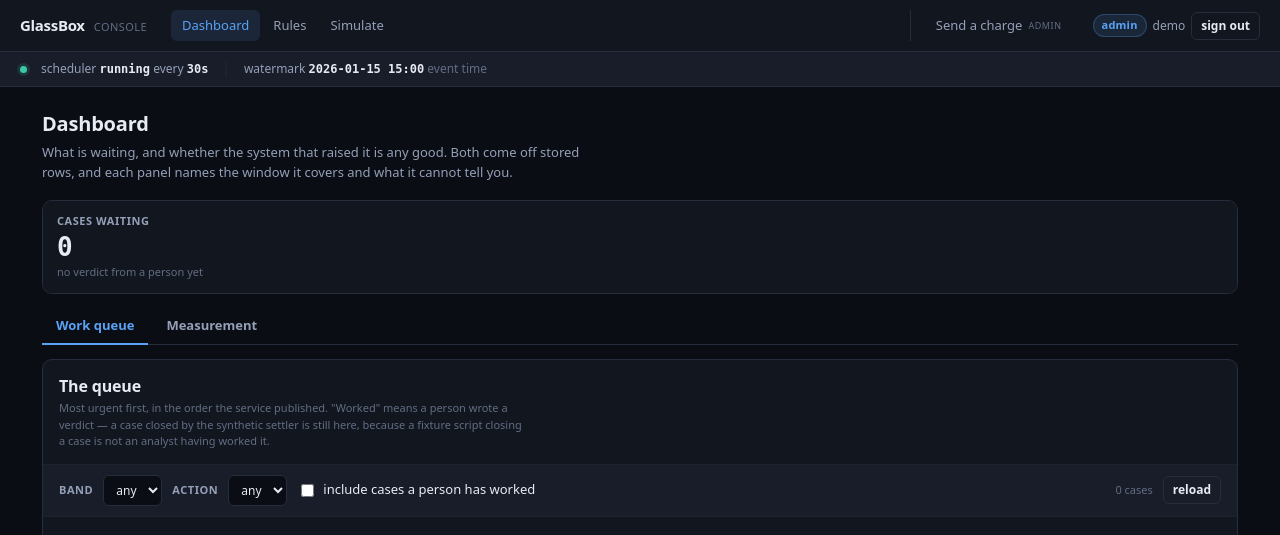
Test case: clicking a tab actually moves › walks the whole navigation without a reload
Check: the heading "Dashboard" is shown, box [42, 110, 149, 137]
Click the link "Measurement": (212, 325) [166, 316, 257, 334]
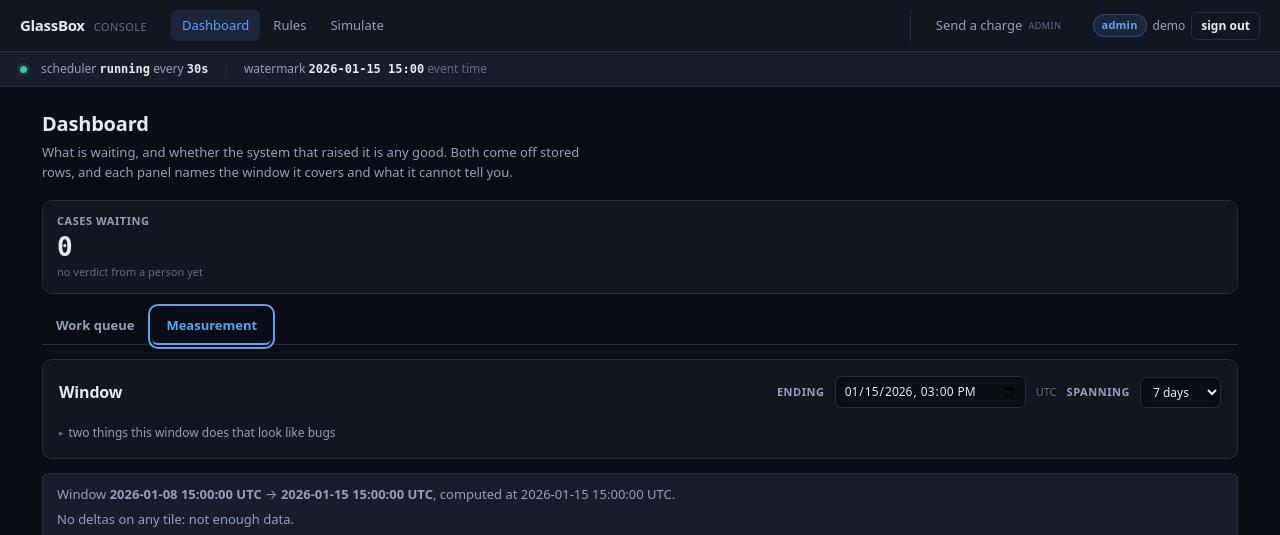
Check: the heading "Window" is shown, box [59, 381, 122, 403]
Click the link "Rules": (290, 25) [273, 16, 306, 34]
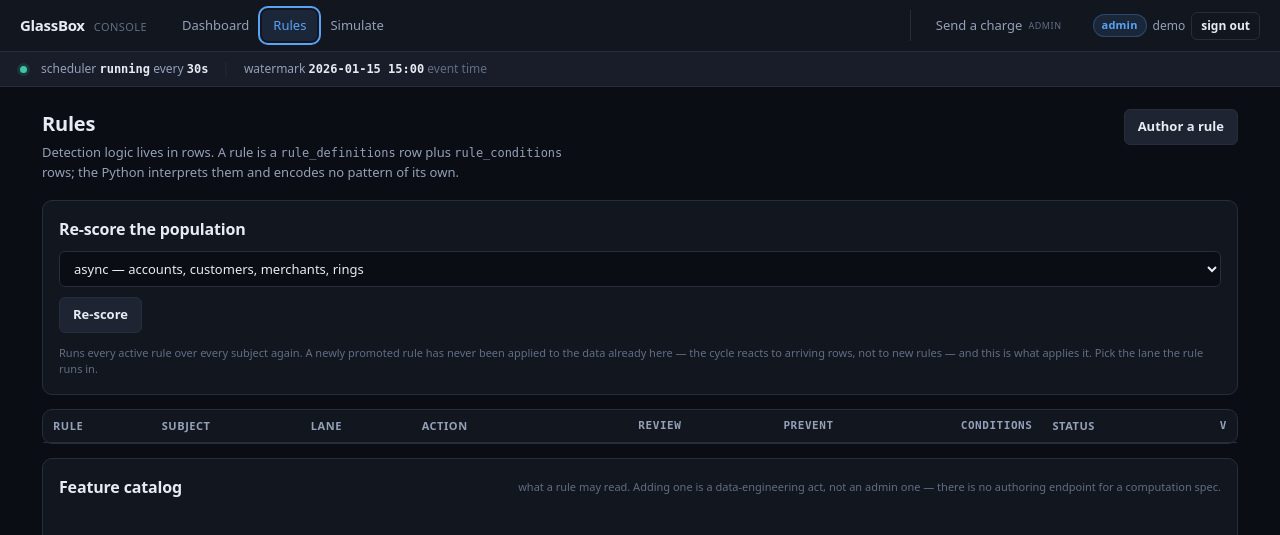
Check: the heading "Rules" is shown, box [42, 110, 95, 137]
Click the link "Simulate": (357, 25) [330, 16, 384, 34]
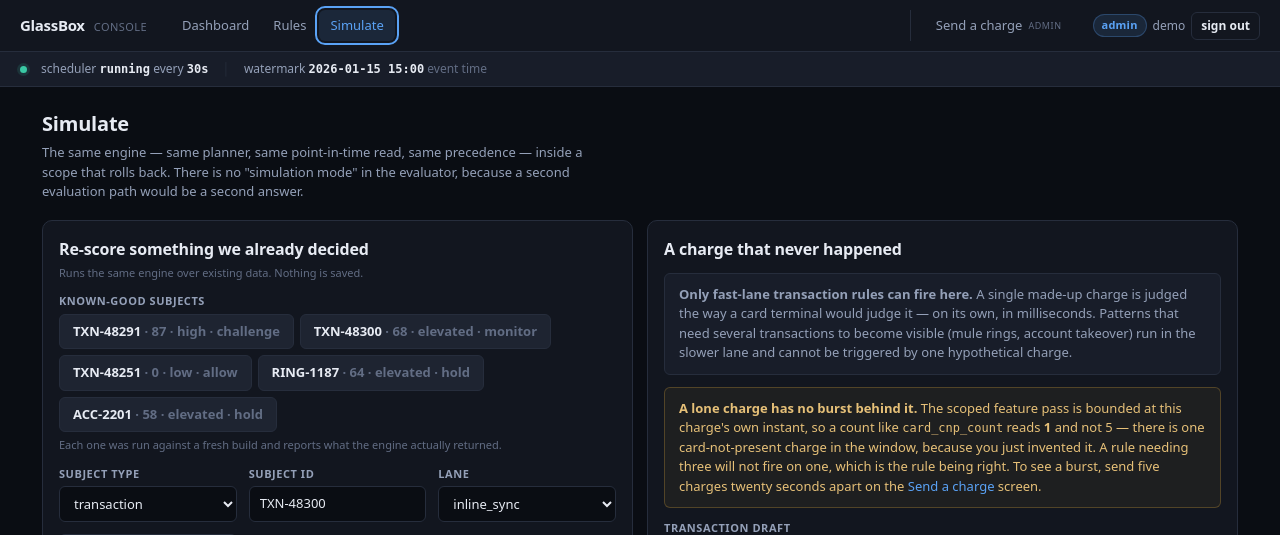
Check: the heading "Simulate" is shown, box [42, 110, 129, 137]
Click the link "Send a charge" next to "admin": (979, 25) [936, 16, 1022, 34]
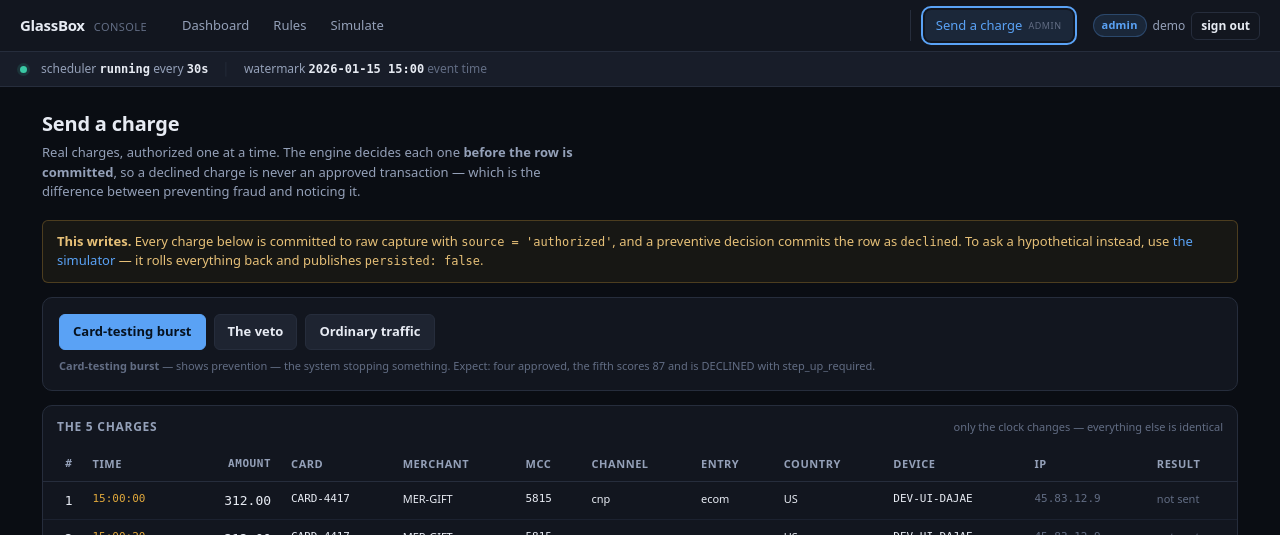
Check: the heading "Send a charge" is shown, box [42, 110, 179, 137]
Click the link "Dashboard": (216, 25) [182, 16, 249, 34]
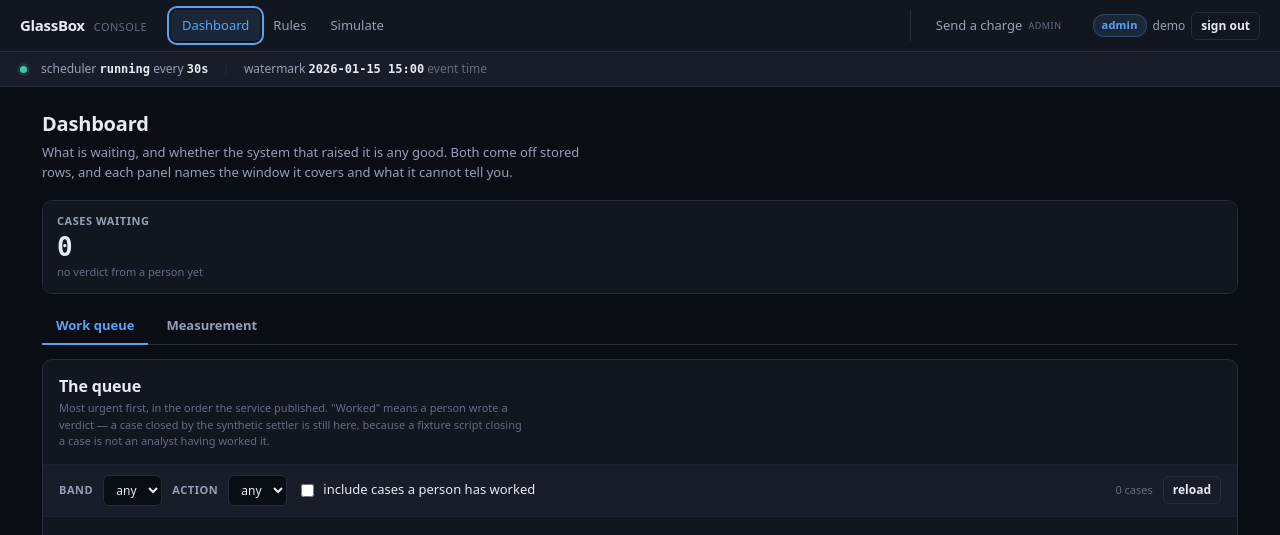
Check: the heading "Dashboard" is shown, box [42, 110, 149, 137]
